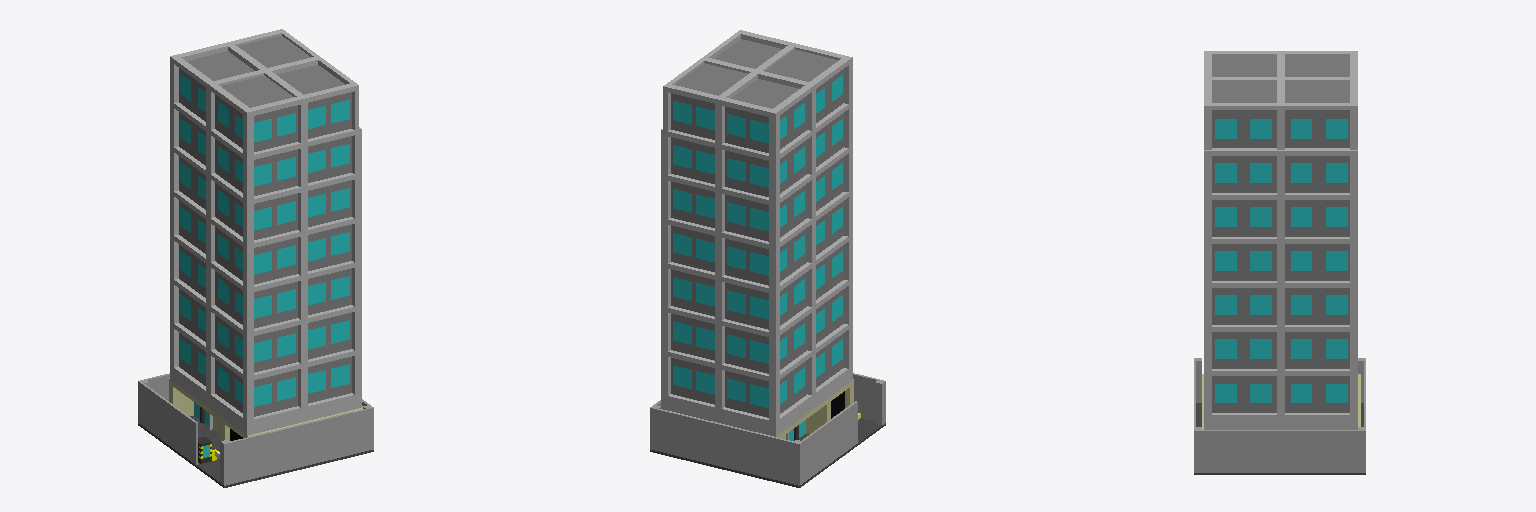
The picture shows the model from 3 angles: view 1: azimuth 30°, elevation 25°; view 2: azimuth 150°, elevation 25°; view 3: azimuth 270°, elevation 25°; orthographic projection.
Visible parts, largest first — view 1: object 1; view 2: object 1; view 3: object 1.
Boxes of the visible parts, x1,y1,x2,y2 form: object 1: [138, 29, 373, 487]; object 1: [650, 30, 885, 487]; object 1: [1194, 51, 1365, 474].
Bounding box in the file's own units: 6.4 × 14.9 × 6.4.
Materials: 1 (1 with a texture image).